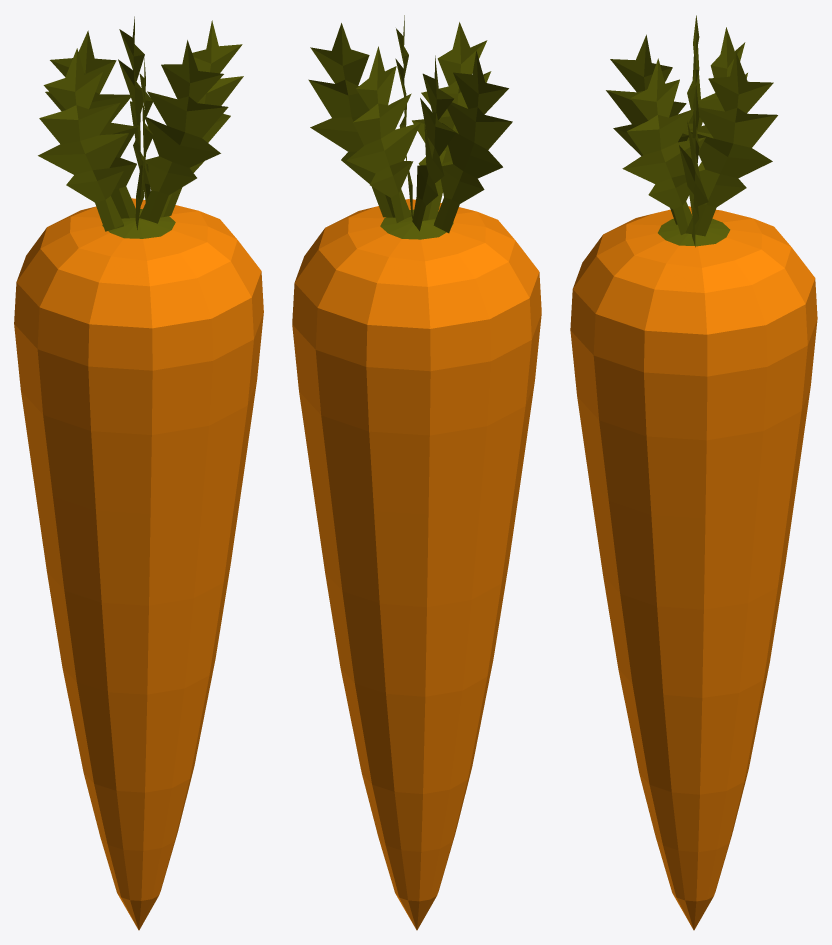
Rendered from carrot.fbx.
The picture shows the model from 3 angles, left to right: view 1: azimuth 30°, elevation 25°; view 2: azimuth 150°, elevation 25°; view 3: azimuth 270°, elevation 25°; orthographic projection.
Parts seen in each view (by area): view 1: carrot; view 2: carrot; view 3: carrot.
Boxes of the visible parts, x1=… form: carrot: x1=14, y1=16, x2=263, y2=930; carrot: x1=292, y1=15, x2=541, y2=930; carrot: x1=570, y1=15, x2=817, y2=930.
Bounding box in the file's own units: 36.25 × 144 × 36.25.
